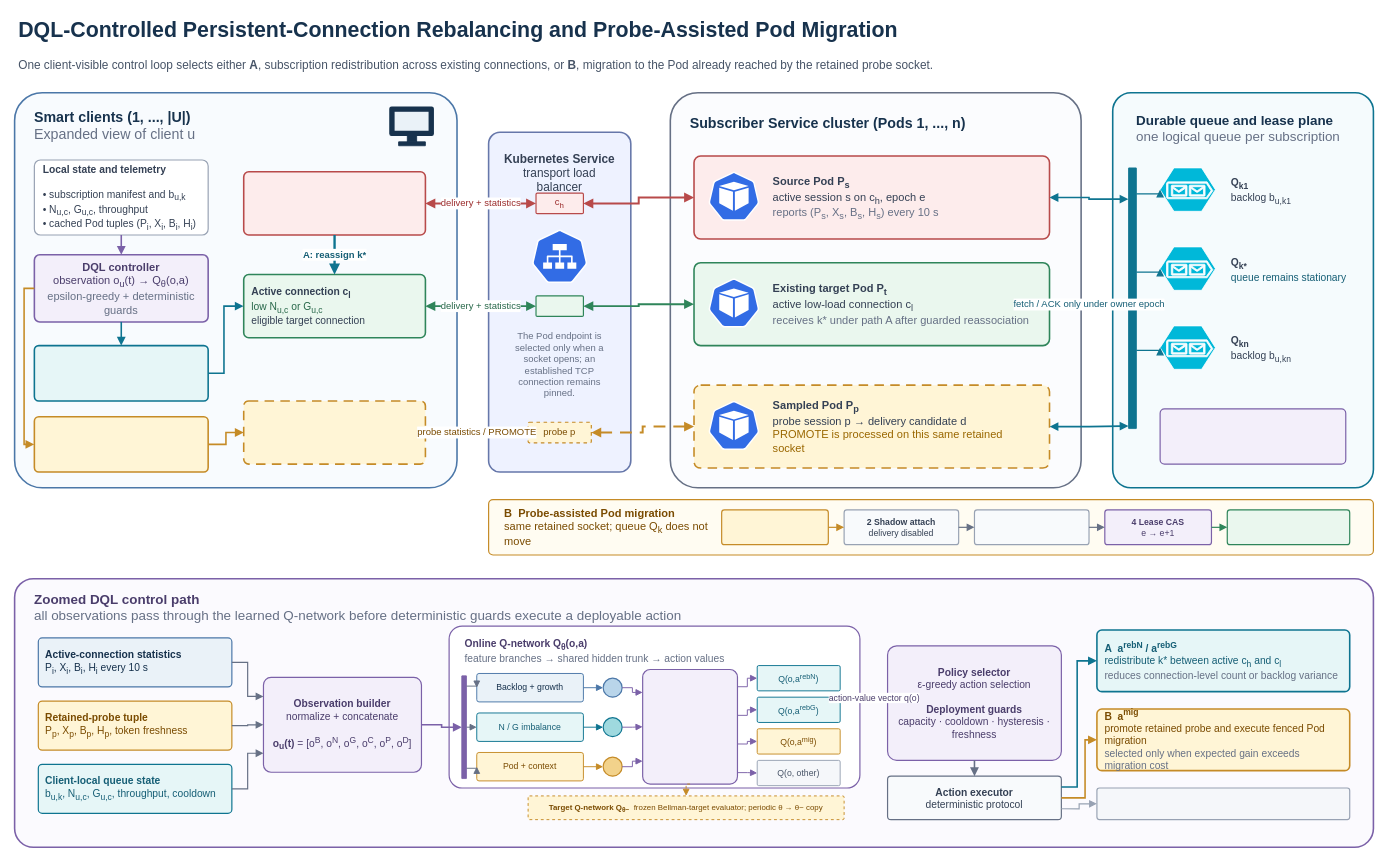
Image size: 1387x861. Some labels were removed from this diagram. Each missing label, with the centre of its shape:
"1 PROMOTE p" belongs at (x=775, y=527).
"3 Quiesce source ACK barrier" belongs at (x=1031, y=527).
"5 Activate target retire source" belongs at (x=1288, y=527).
"A Connection rebalancing a rebN or a rebG move bounded subscription k*" belongs at (x=121, y=372).
"a stay · a scale+ · a scale-" belongs at (x=1223, y=803).
"Active connection c h high N u,c or G u,c source session s, epoch e" belongs at (x=334, y=203).
"B Probe-assisted migration a mig promote retained probe socket" belongs at (x=121, y=444).
"c l" belongs at (x=559, y=306).
"Lease registry L k owner session · epoch · cursor · transfer ID" belongs at (x=1252, y=436).
"Retained probe p authenticated, delivery disabled sampled Pod endpoint is fixed" belongs at (x=334, y=432).
"Shared hidden trunk ● ● ● ● ● ●" belongs at (x=690, y=726).
